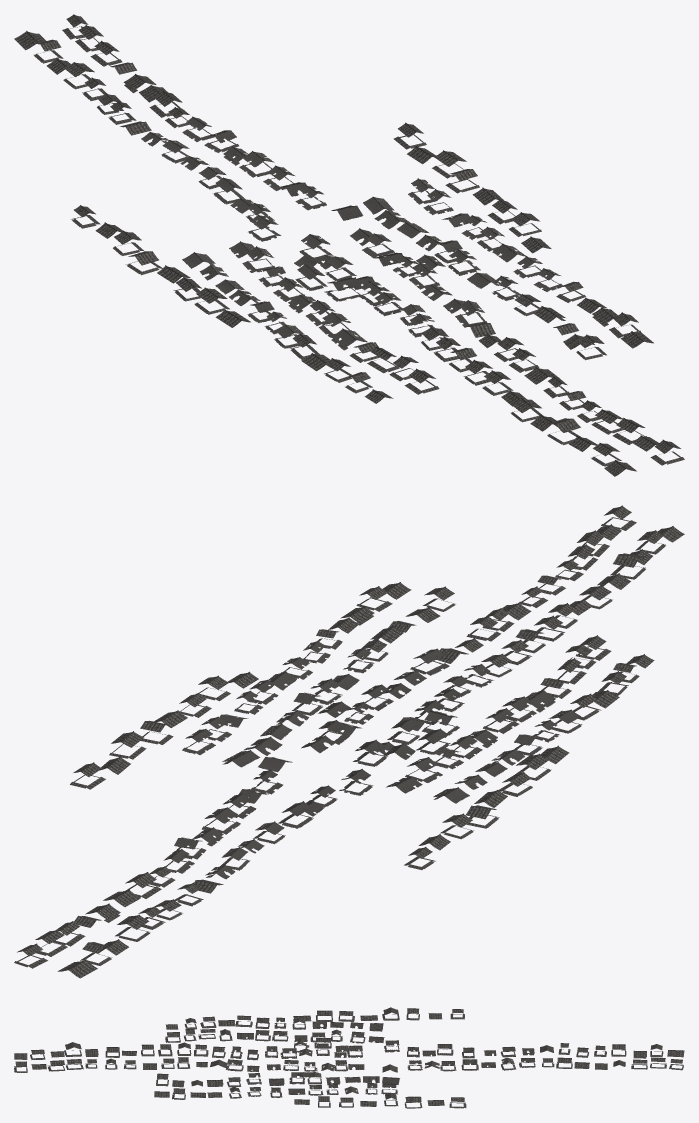
Rendered from canal_roofs.glb.
3 views of the same model, one above another, from view 1: azimuth 30°, elevation 25°; view 2: azimuth 150°, elevation 25°; view 3: azimuth 270°, elevation 25° (orthographic). The views are drawn at different scales.
Parts seen in each view (by area): view 1: canal_roofs16, canal_roofs12, canal_roofs13, canal_roofs14, canal_roofs15, canal_roofs11; view 2: canal_roofs16, canal_roofs12, canal_roofs13, canal_roofs14, canal_roofs15, canal_roofs11, canal_roofs6; view 3: canal_roofs12, canal_roofs16, canal_roofs13, canal_roofs14, canal_roofs15, canal_roofs11, canal_roofs5, canal_roofs9, canal_roofs0, canal_roofs1, canal_roofs8, canal_roofs2 (+5 smaller).
Part boxes in pixels (x1=…): canal_roofs16: x1=71, y1=122, x2=653, y2=360; canal_roofs12: x1=151, y1=130, x2=684, y2=476; canal_roofs13: x1=14, y1=14, x2=303, y2=305; canal_roofs14: x1=247, y1=197, x2=439, y2=403; canal_roofs15: x1=372, y1=178, x2=504, y2=263; canal_roofs11: x1=213, y1=165, x2=465, y2=325; canal_roofs16: x1=70, y1=582, x2=569, y2=869; canal_roofs12: x1=172, y1=505, x2=684, y2=875; canal_roofs13: x1=14, y1=735, x2=524, y2=978; canal_roofs14: x1=222, y1=635, x2=654, y2=767; canal_roofs15: x1=182, y1=679, x2=335, y2=764; canal_roofs11: x1=222, y1=669, x2=471, y2=828; canal_roofs6: x1=384, y1=711, x2=457, y2=759; canal_roofs12: x1=14, y1=1042, x2=534, y2=1072; canal_roofs16: x1=154, y1=1007, x2=466, y2=1108; canal_roofs13: x1=311, y1=1021, x2=684, y2=1070; canal_roofs14: x1=165, y1=1015, x2=399, y2=1083; canal_roofs15: x1=291, y1=1071, x2=399, y2=1095; canal_roofs11: x1=239, y1=1047, x2=456, y2=1072; canal_roofs5: x1=267, y1=1038, x2=331, y2=1070; canal_roofs9: x1=407, y1=1047, x2=435, y2=1070; canal_roofs0: x1=323, y1=1044, x2=362, y2=1057; canal_roofs1: x1=288, y1=1043, x2=329, y2=1056; canal_roofs8: x1=382, y1=1040, x2=418, y2=1072; canal_roofs2: x1=265, y1=1046, x2=296, y2=1058.
Bounding box in the file's own units: 117 × 6.49 × 347.
Materials: 1 (1 with a texture image).
